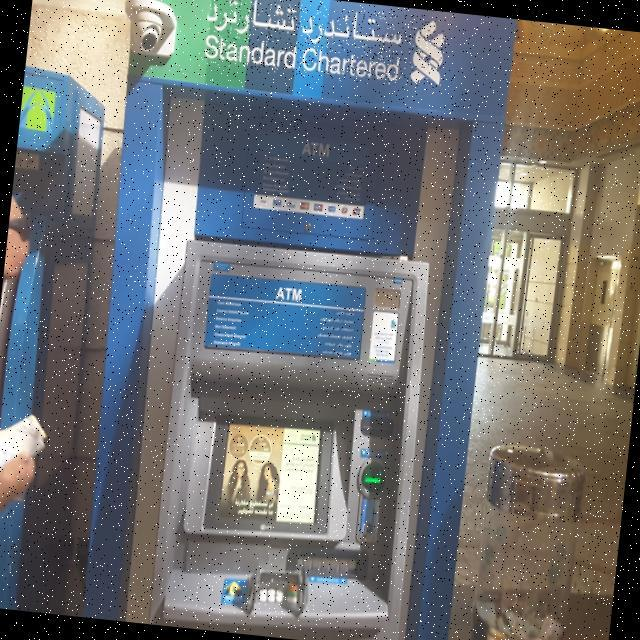Standard Chartered: (203, 0, 447, 91)
